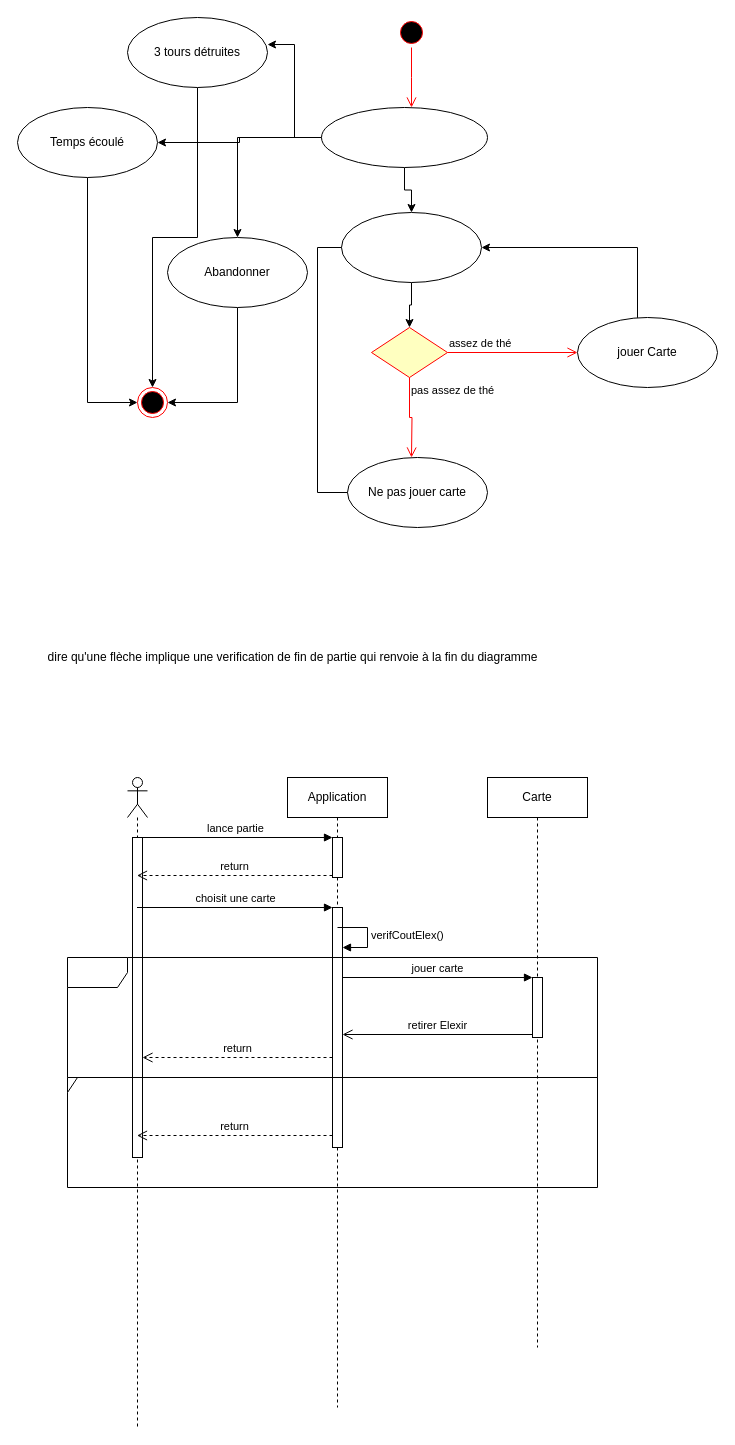
This 735x1445 diagram has some shape labels left out. The shapes that lost their labels are listed below. From the top down, each one's centre as x and y in pixels, then its label:
(404,137): Lancer Partie
(411,247): Demander à jouer Carte
(409,352): verifier elixir
(332,1017): alt
